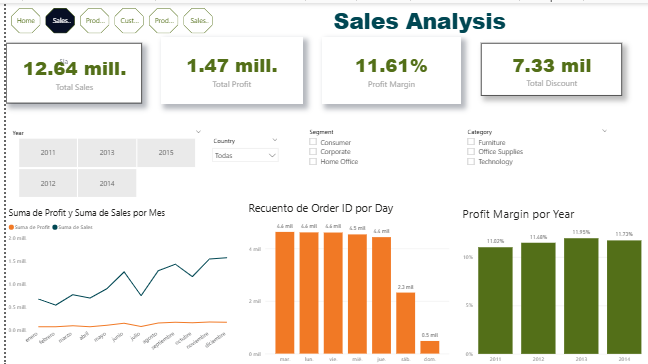

The page's visual inventory and layout, read from the dashboard file:
{"tool":"powerbi","page":{"name":"Sales Analysis","canvas":[1280,720],"ordinal":1},"visuals":[{"type":"card","fields":{"Values":["DIM_Customer.Total Sales"]},"box":[0,79.4,268.3,119.1],"z":0},{"type":"card","fields":{"Values":["DIM_Customer.Total Profit"]},"box":[306.1,66.1,279.7,132.3],"z":1000},{"type":"card","fields":{"Values":["DIM_Customer.Profit Margin"]},"box":[623.6,66.1,274,132.3],"z":2000},{"type":"card","fields":{"Values":["Sum(Fact_Sales.Discount)"]},"box":[937.3,79.4,277.8,103.9],"z":3000},{"type":"lineChart","fields":{"Category":["Dim_SalesCalendar.Date.Variación.Jerarquía de fechas.Mes"],"Y":["Sum(Fact_Sales.Profit)","Sum(Fact_Sales.Sales)"]},"box":[0,400.6,453.5,296.7],"z":4000},{"type":"columnChart","fields":{"Y":["Count(Fact_Sales.Order ID)"],"Category":["Dim_SalesCalendar.Day"]},"box":[472.4,389.3,406.3,330.7],"z":5000},{"type":"columnChart","fields":{"Y":["DIM_Customer.Profit Margin"],"Category":["Dim_SalesCalendar.Year"]},"box":[895.8,400.6,362.8,319.4],"z":6000},{"type":"slicer","fields":{"Values":["Dim_SalesCalendar.Year"]},"box":[0,241.9,396.9,147.4],"z":7000},{"type":"slicer","fields":{"Values":["DIM_Geo.Country"]},"box":[396.9,258.9,151.2,86.9],"z":8000},{"type":"slicer","fields":{"Values":["DIM_Customer.Segment"]},"box":[585.8,240,292.9,149.3],"z":9000},{"type":"slicer","fields":{"Values":["DIM_Product.Category"]},"box":[897.6,240,300.5,149.3],"z":10000},{"type":"pageNavigator","box":[10,10,400,50],"z":11000},{"type":"textbox","box":[100.2,100.2,682.2,173.9],"z":12000},{"type":"textbox","box":[640.6,0,461.1,158.7],"z":13000}]}

Visuals, with their boxes on the page's 1280x720 design canvas (x1, y1, x2, y2). These are canvas units, not pixel positions in the 648x364 screenshot, which may show the page scaled, cropped or inside an application window:
card - DIM_Customer.Total Sales: [0,79,268,198]
card - DIM_Customer.Total Profit: [306,66,586,198]
card - DIM_Customer.Profit Margin: [624,66,898,198]
card - Sum(Fact_Sales.Discount): [937,79,1215,183]
lineChart - Dim_SalesCalendar.Date.Variación.Jerarquía de fechas.Mes x Sum(Fact_Sales.Profit): [0,401,454,697]
columnChart - Count(Fact_Sales.Order ID) x Dim_SalesCalendar.Day: [472,389,879,720]
columnChart - DIM_Customer.Profit Margin x Dim_SalesCalendar.Year: [896,401,1259,720]
slicer - Dim_SalesCalendar.Year: [0,242,397,389]
slicer - DIM_Geo.Country: [397,259,548,346]
slicer - DIM_Customer.Segment: [586,240,879,389]
slicer - DIM_Product.Category: [898,240,1198,389]
pageNavigator: [10,10,410,60]
textbox: [100,100,782,274]
textbox: [641,0,1102,159]
